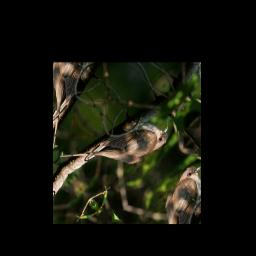Cuckoo: (59, 81, 176, 208)
